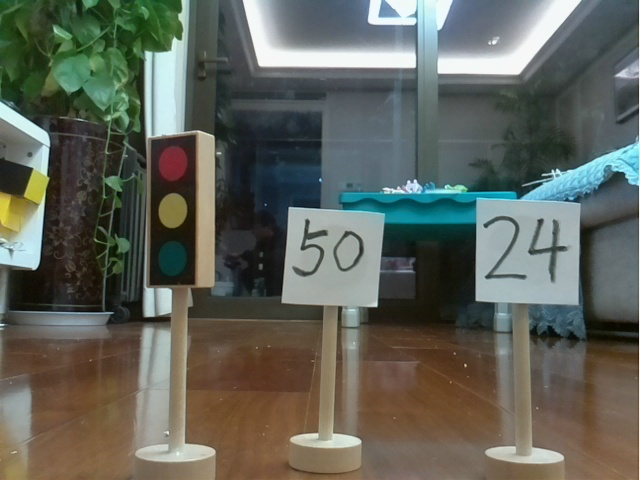Red Traffic Light: (131, 127, 224, 480)
Speed Limit 24: (464, 189, 590, 480)
Speed Limit 50: (277, 198, 387, 475)
